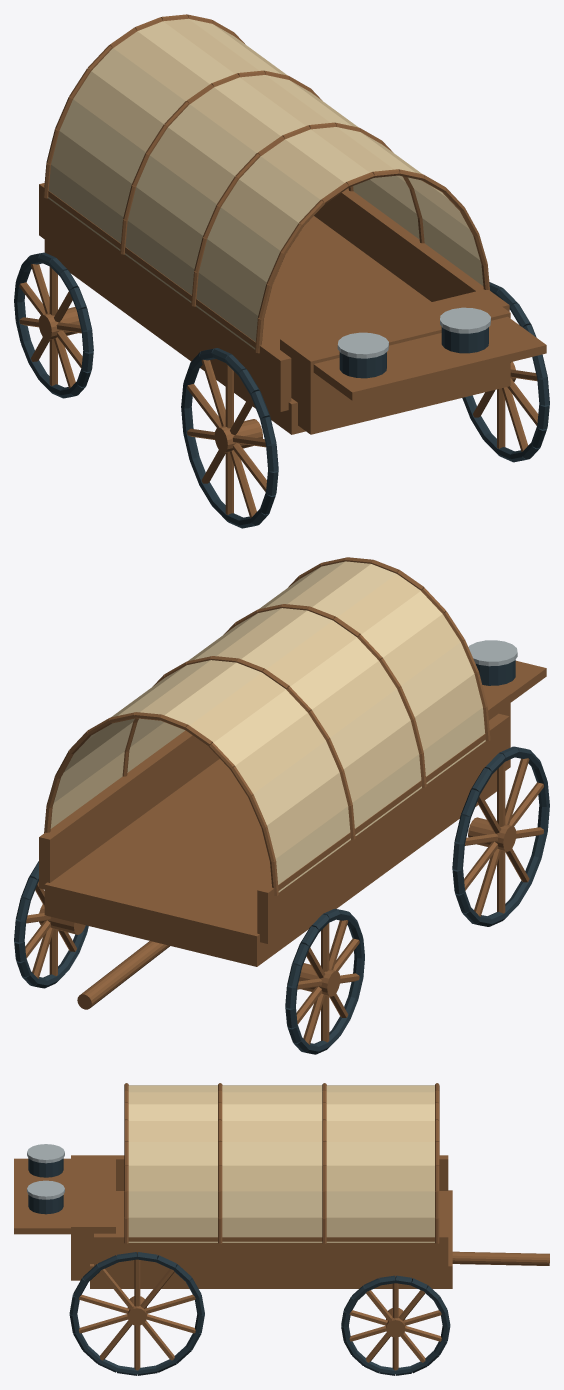
The model's file is scendance-plan-chuck-wagon.glb.
The picture shows the model from 3 angles, top to bottom: view 1: azimuth 30°, elevation 25°; view 2: azimuth 150°, elevation 25°; view 3: azimuth 270°, elevation 25°; orthographic projection. The views are drawn at different scales.
Size of the model in its own units: 2.06 by 2.2 by 4.52.
